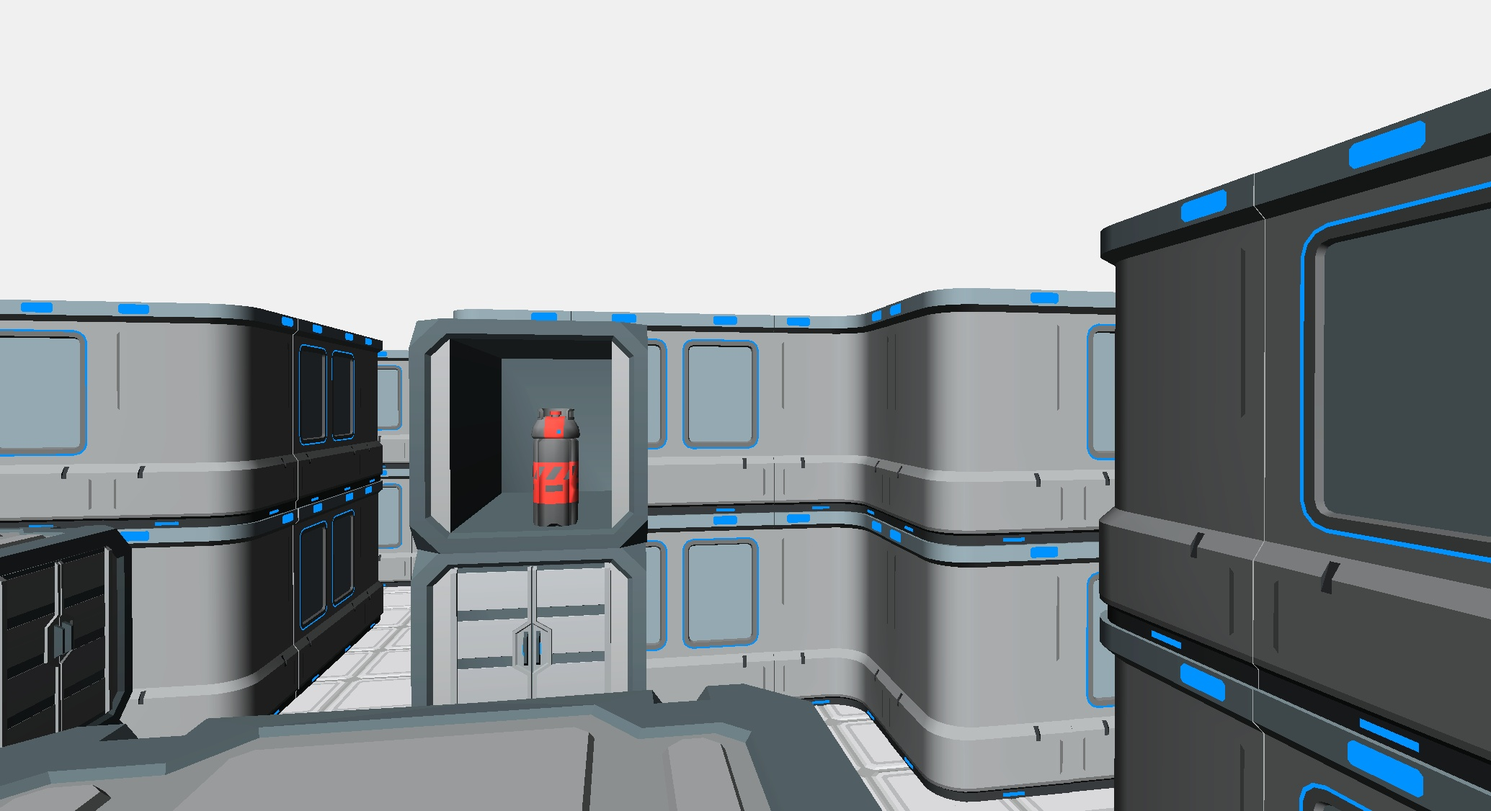red_barrel: (532, 408, 579, 526)
